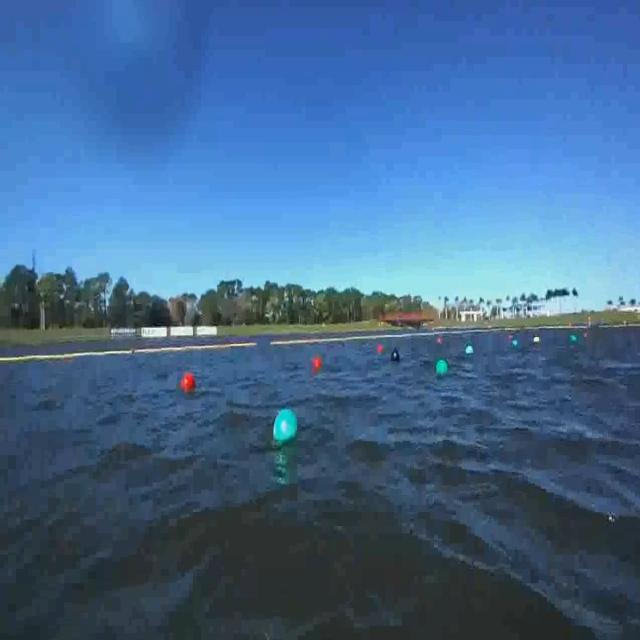black-buoy: (390, 350, 400, 362)
green-buoy: (274, 409, 300, 448), (438, 358, 450, 376)
red-buoy: (184, 372, 199, 393), (314, 356, 322, 369), (378, 345, 385, 353)
